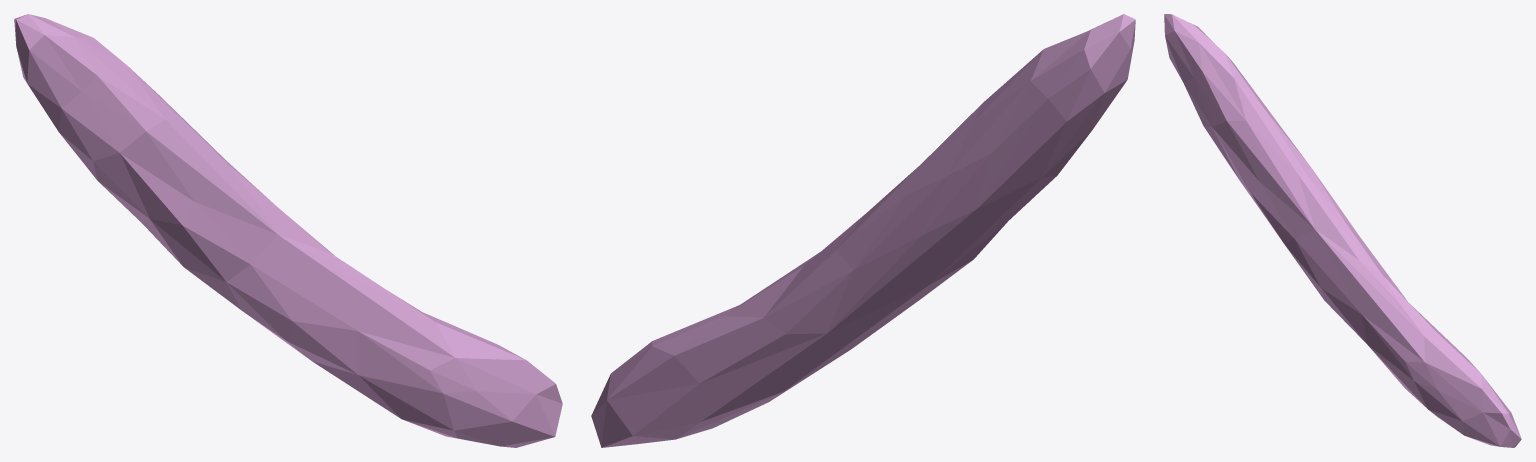
The picture shows the model from 3 angles, left to right: view 1: azimuth 30°, elevation 25°; view 2: azimuth 150°, elevation 25°; view 3: azimuth 330°, elevation 25°; orthographic projection. The views are drawn at different scales.
Visible parts, largest first — view 1: 975.obj; view 2: 975.obj; view 3: 975.obj.
Part boxes in pixels (<box>): 975.obj: <box>14,14,562,447</box>; 975.obj: <box>591,14,1135,447</box>; 975.obj: <box>1164,14,1521,447</box>.
Size of the model in its own units: 824 by 802 by 116.
